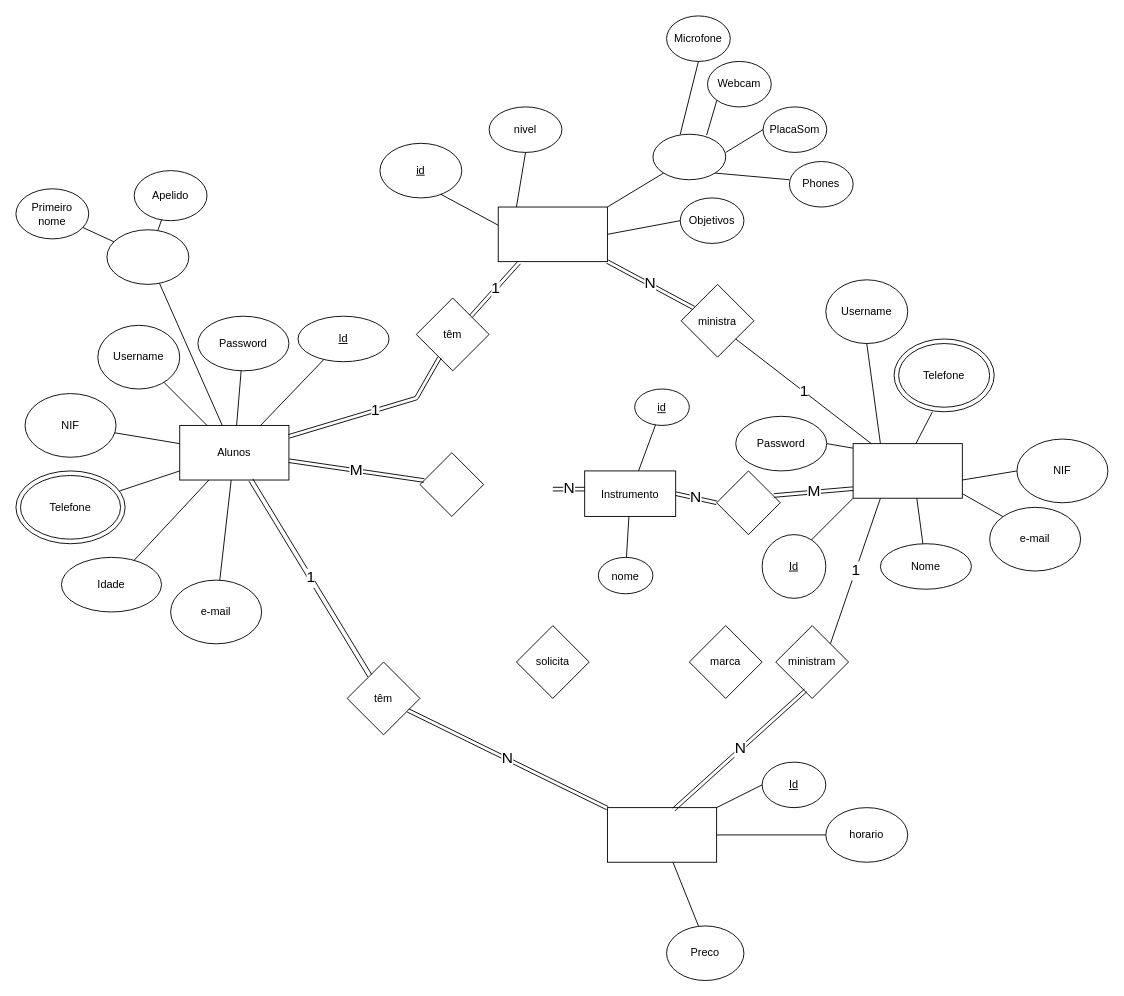
The diagram is 1124 pixels wide and 996 high, and some of its shapes have lost their labels. The box of each missing label's shape, as (x1, y1, x2, y2) in pixels:
aprende: (419, 452, 484, 516)
Aula: (607, 807, 717, 862)
Aula_teste: (497, 206, 607, 262)
CondTec: (652, 133, 726, 180)
ensina: (716, 470, 780, 535)
Nome?: (106, 229, 189, 284)
Professores: (852, 443, 962, 498)
